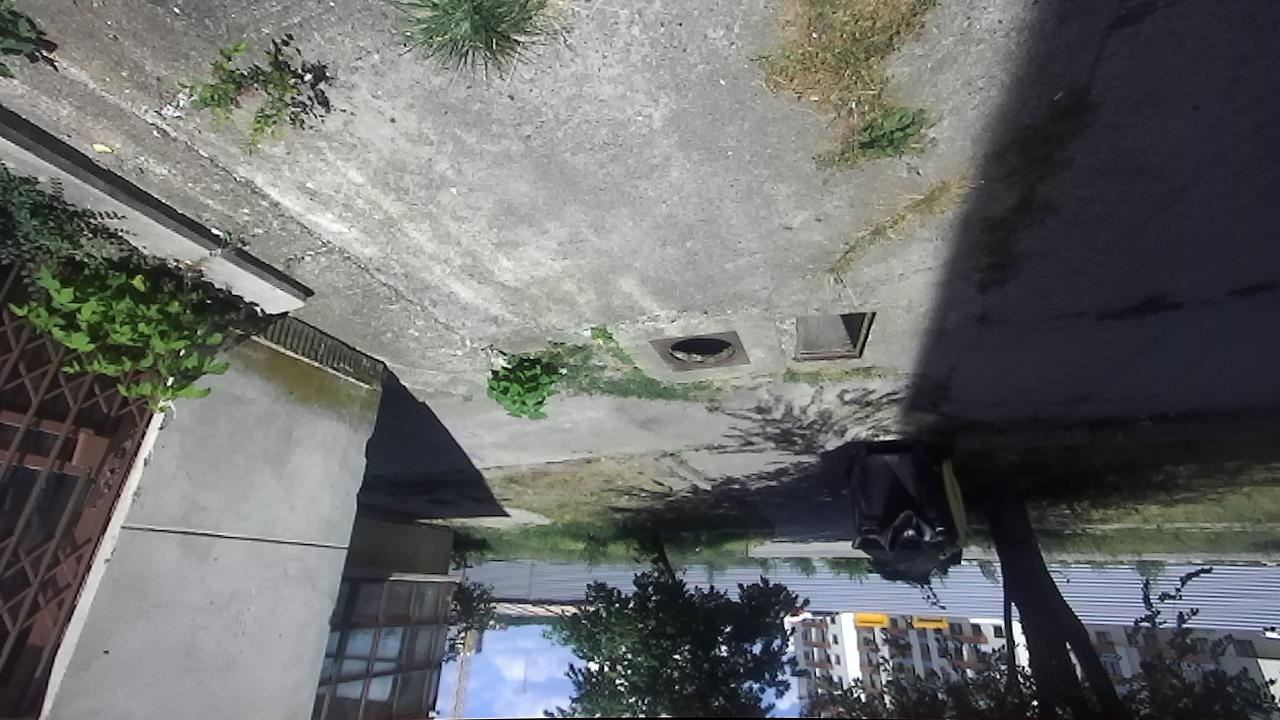drain: (790, 310, 879, 366), (665, 332, 740, 369)
